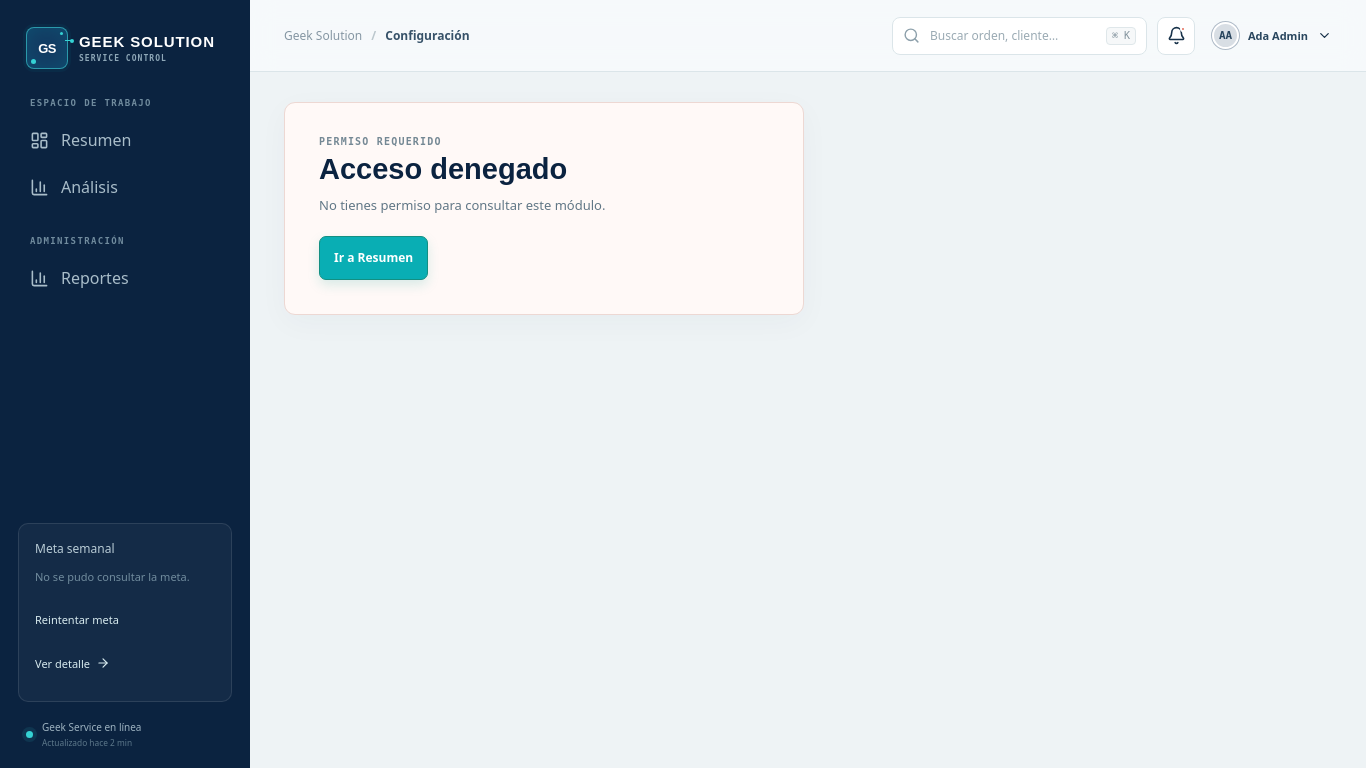
it: una falla de consulta no presenta cifras falsas y permite reintentar
The width and height of the screenshot is (1366, 768).
Check: the text "No se pudo consultar la meta." is shown, box 35,569 -> 215,584
Click the button "Reintentar meta".
click(77, 619)  # box 35,597 -> 119,641
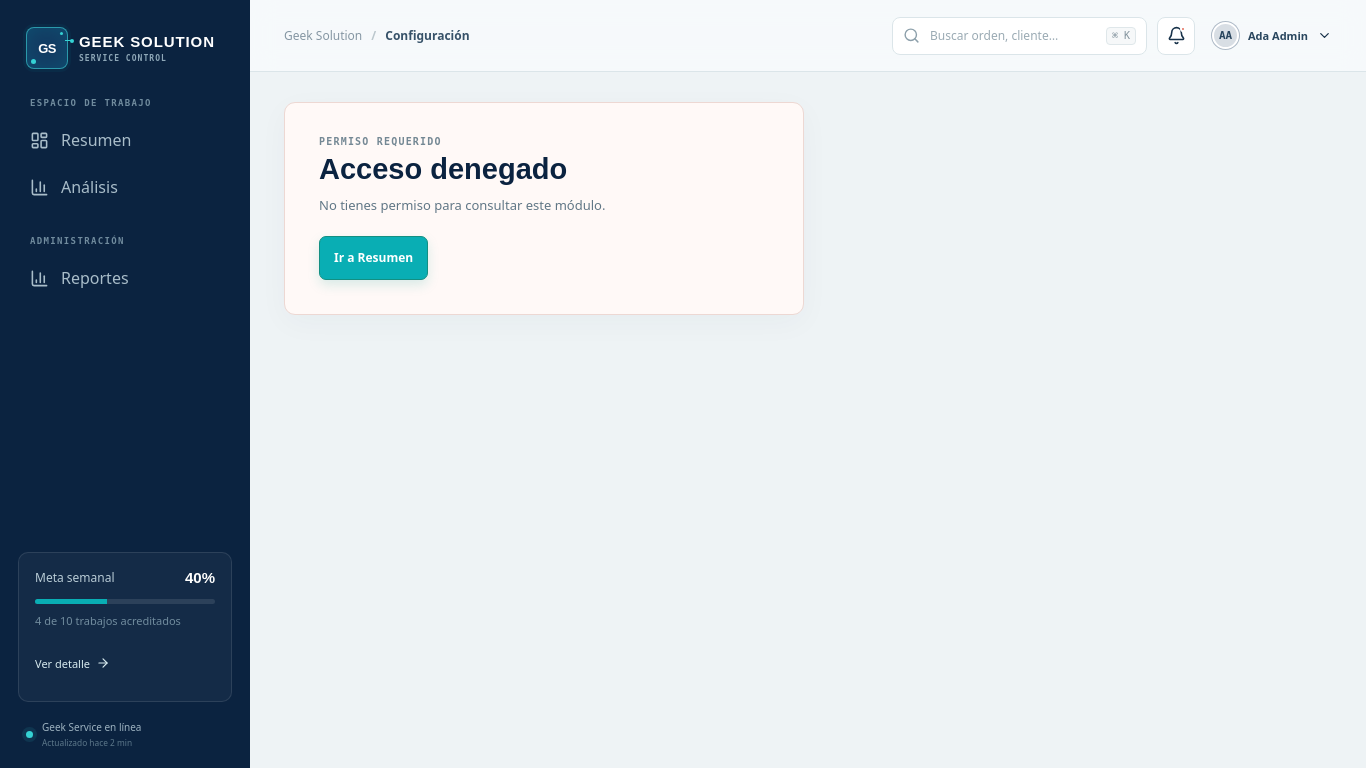
Check: the text "40%" is shown, box 185,570 -> 215,585
